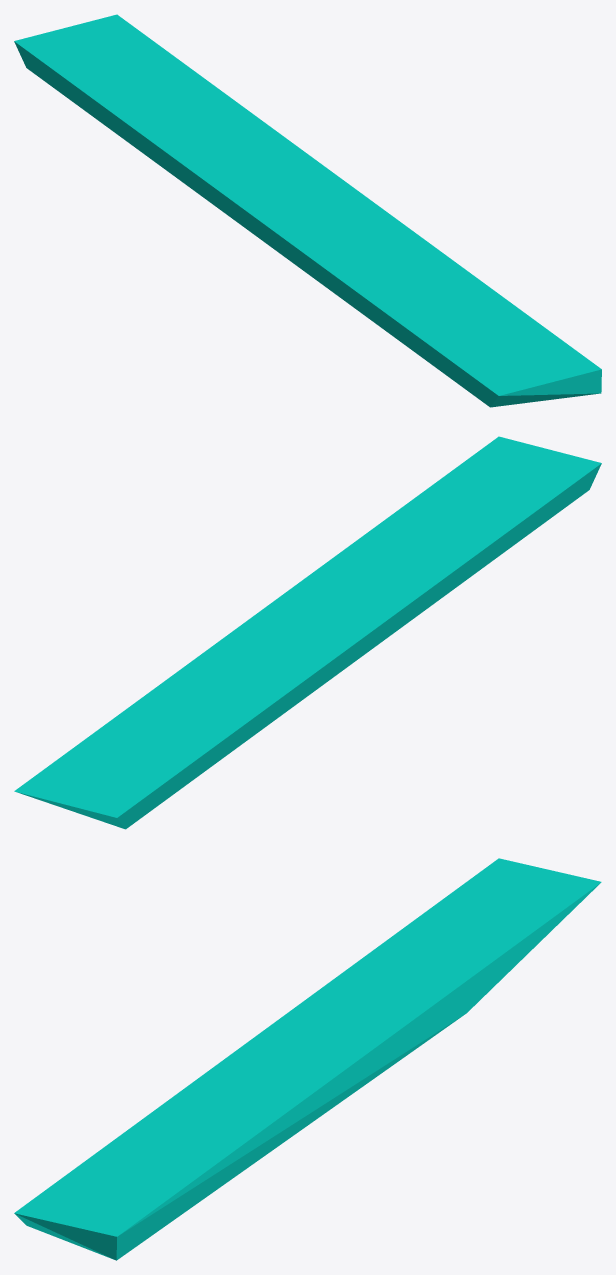
File: garden_table_convex_piece_025.obj
The picture shows the model from 3 angles, top to bottom: view 1: azimuth 30°, elevation 25°; view 2: azimuth 150°, elevation 25°; view 3: azimuth 330°, elevation 25°; orthographic projection.
Size of the model in its own units: 0.0649 by 0.0164 by 0.5077.
